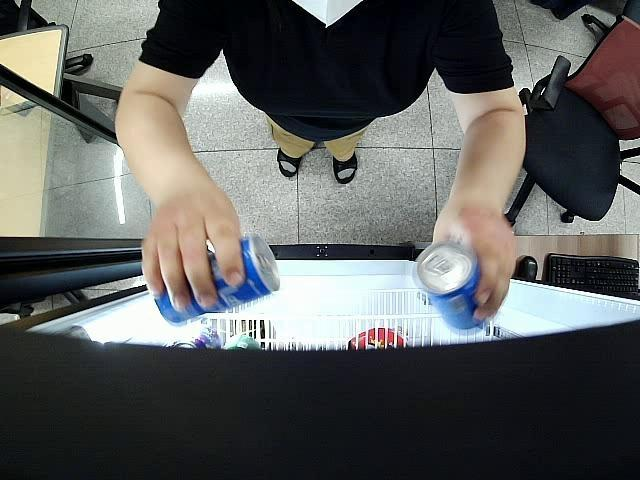15_letsbe: (153, 236, 280, 326), (416, 240, 488, 334)
